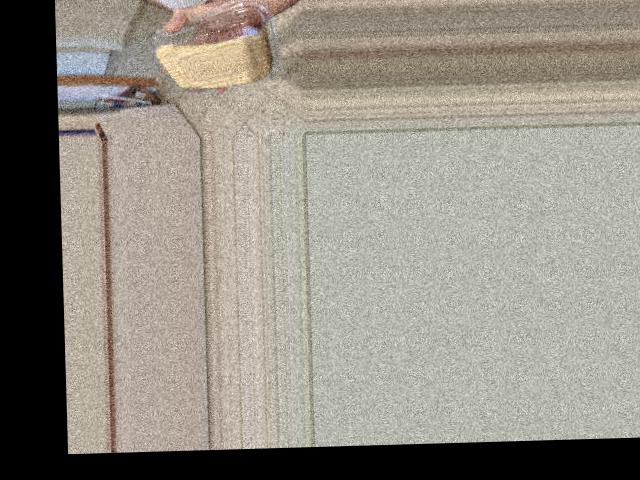cheese: (179, 22, 288, 78)
